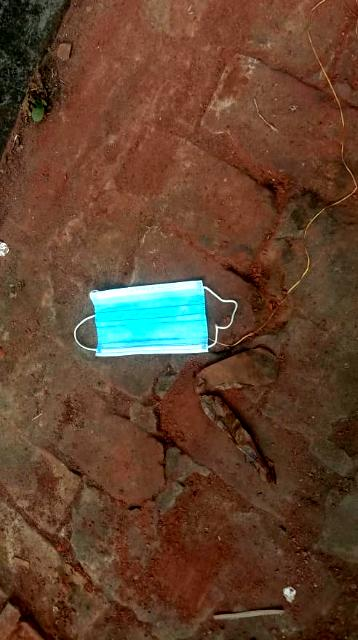mask: (84, 272, 215, 374)
